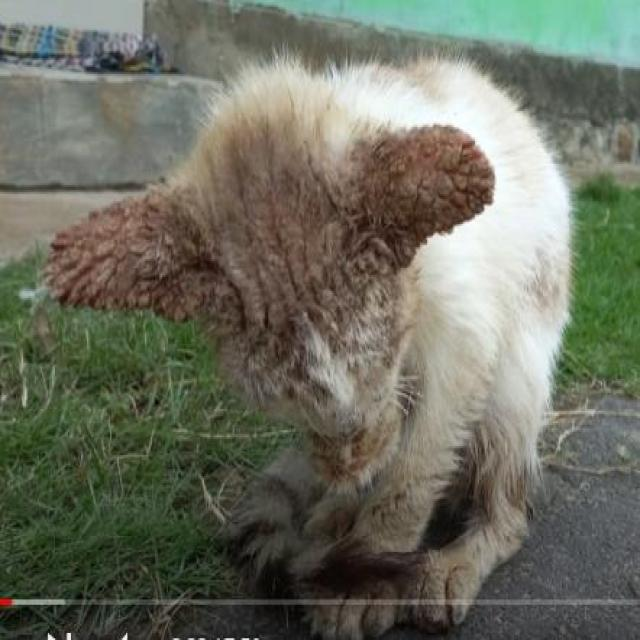ghe: (319, 130, 486, 250), (54, 224, 228, 318), (233, 225, 413, 314), (240, 325, 363, 419)
